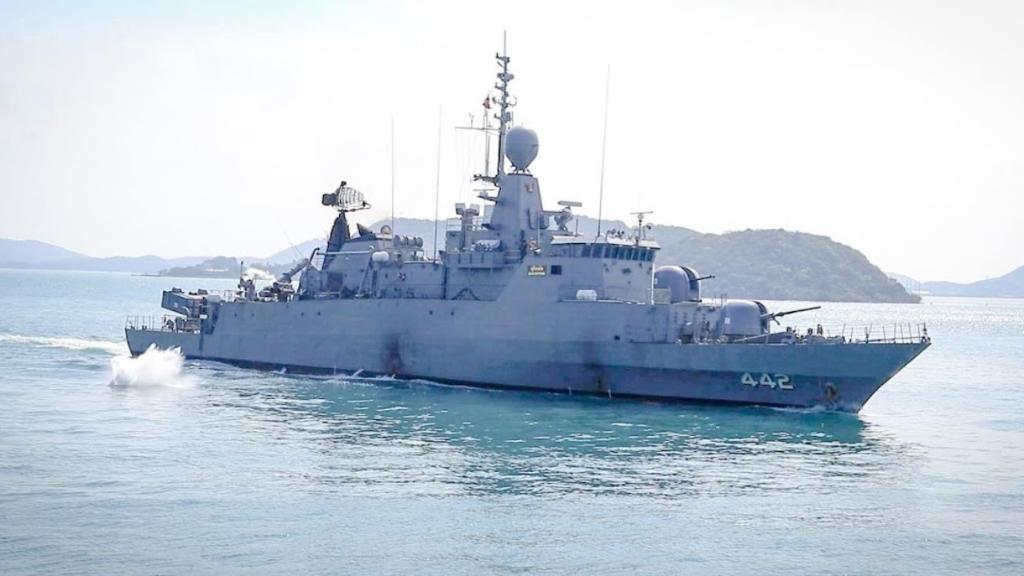Warship: (130, 42, 932, 422)
